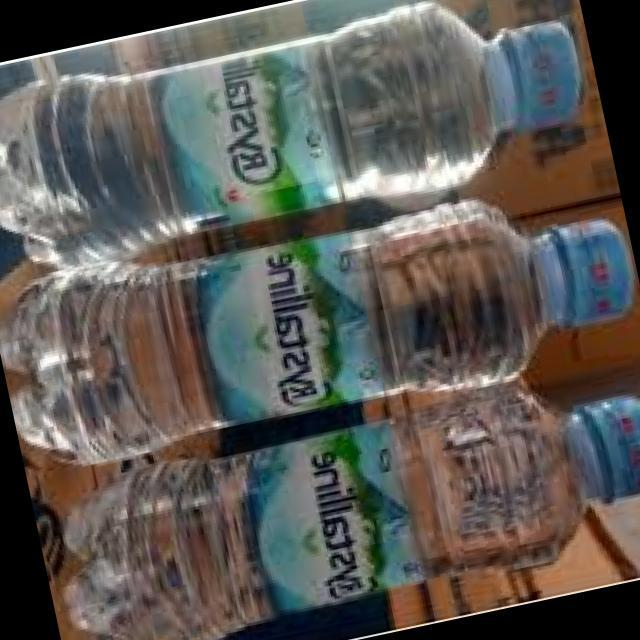good: (13, 164, 640, 488), (0, 0, 612, 277), (61, 357, 640, 640)
